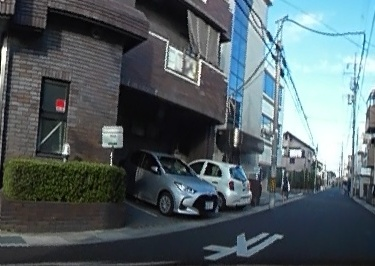person: (282, 174, 290, 196)
